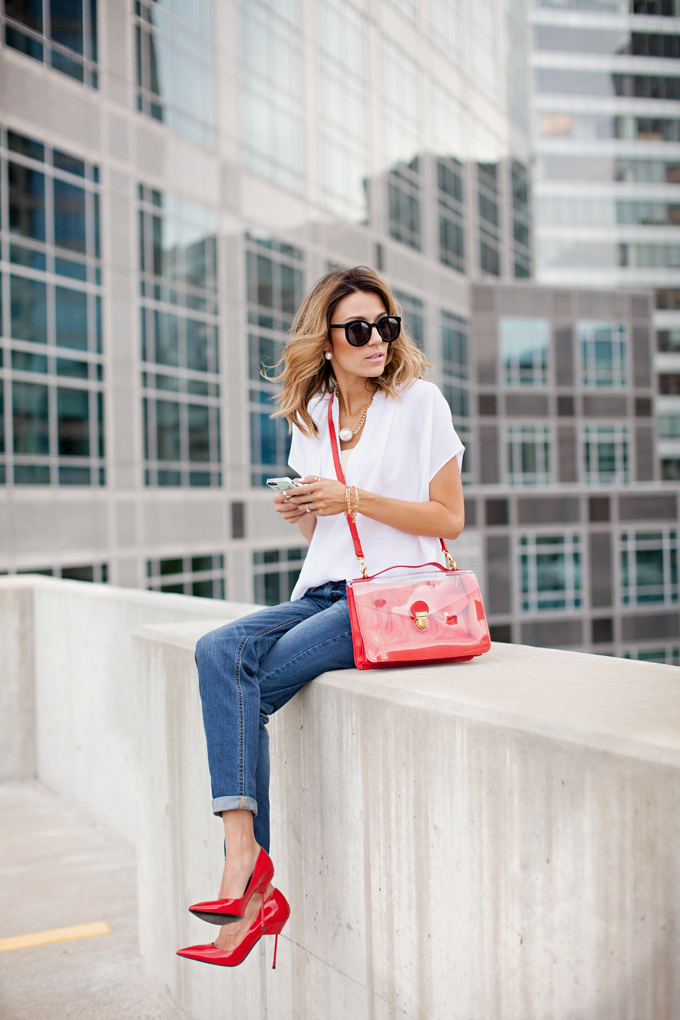jeans: (190, 576, 382, 861)
sunglasses: (330, 318, 404, 341)
